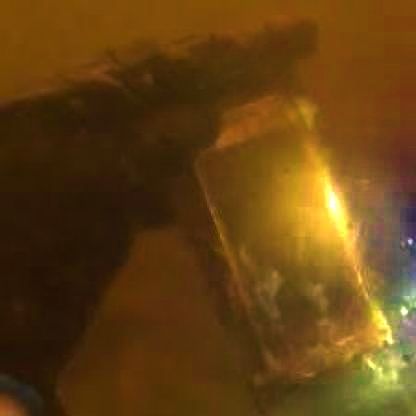cellphone: (189, 92, 388, 383)
